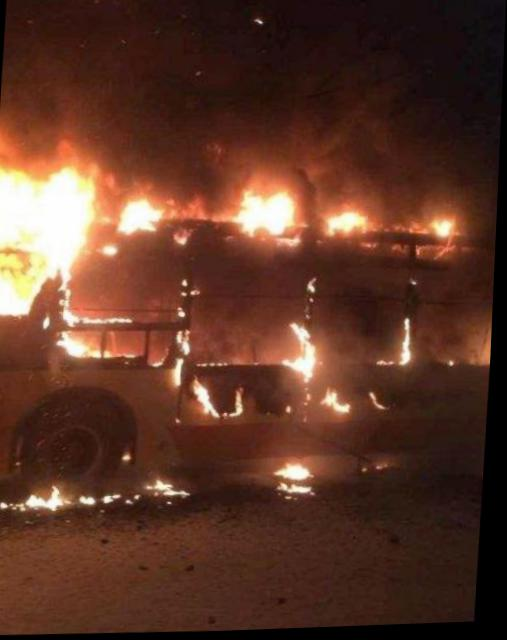fire: (0, 164, 110, 329), (0, 468, 192, 522), (217, 182, 304, 251), (114, 185, 179, 245), (192, 373, 253, 424), (172, 276, 198, 389), (324, 204, 382, 249), (288, 319, 322, 384), (386, 320, 422, 373), (280, 459, 320, 500), (317, 388, 359, 423), (422, 214, 460, 250)
